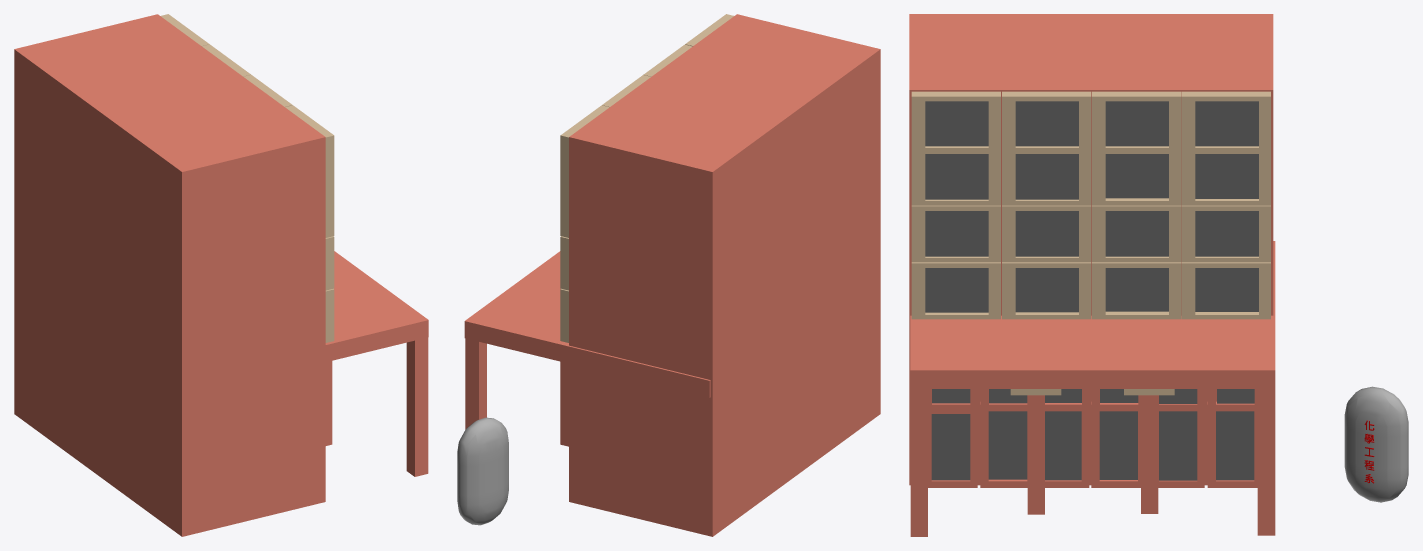
Rendered from 化工系.fbx.
3 views of the same model, side by side, from view 1: azimuth 30°, elevation 25°; view 2: azimuth 150°, elevation 25°; view 3: azimuth 270°, elevation 25° (orthographic). The views are drawn at different scales.
Parts seen in each view (by area): view 1: 立方體.008; view 2: 立方體.008, Mball.001; view 3: 立方體.008, Mball.001.
Part boxes in pixels (left/top/right/bottom): 立方體.008: left=14, top=14, right=428, bottom=536; 立方體.008: left=464, top=14, right=880, bottom=536; Mball.001: left=457, top=417, right=508, bottom=525; 立方體.008: left=909, top=14, right=1275, bottom=536; Mball.001: left=1344, top=386, right=1408, bottom=502.
Size of the model in its own units: 10588 by 14941 by 17102.
